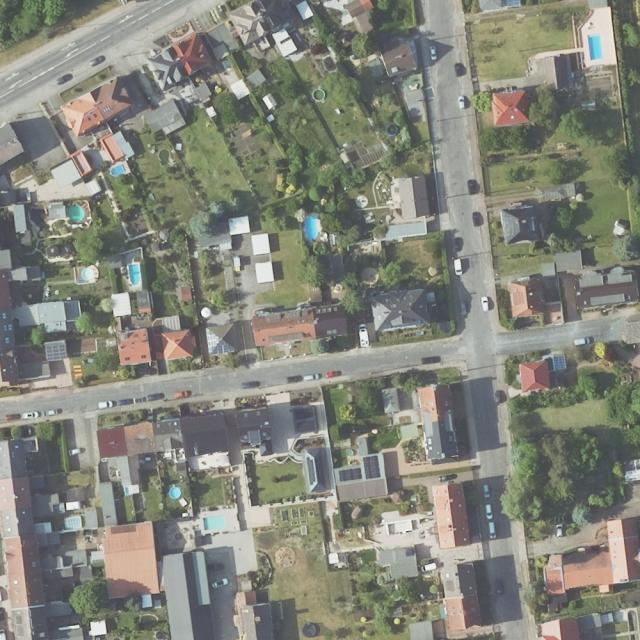PV: (207, 328, 237, 356), (362, 454, 381, 479), (46, 343, 67, 361), (338, 468, 362, 481), (306, 456, 316, 485)
